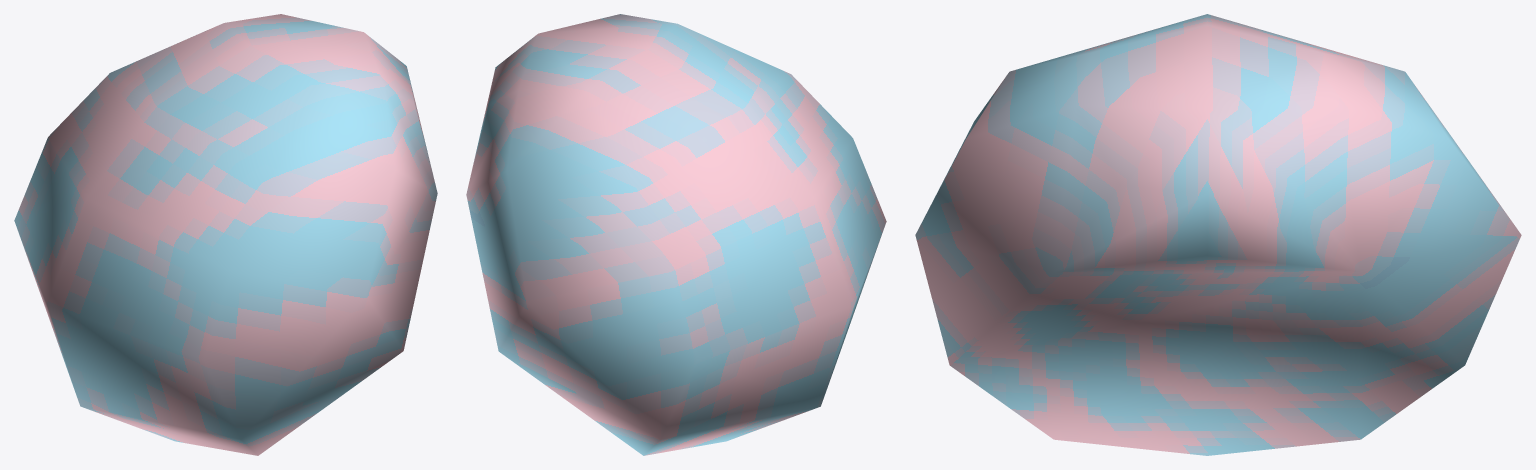
File: Bonnet.fbx
The picture shows the model from 3 angles, left to right: view 1: azimuth 30°, elevation 25°; view 2: azimuth 150°, elevation 25°; view 3: azimuth 270°, elevation 25°; orthographic projection. The views are drawn at different scales.
Visible parts, largest first — view 1: Bonnet; view 2: Bonnet; view 3: Bonnet.
Part boxes in pixels (x1,y1,x2,y2): Bonnet: [14, 14, 437, 455]; Bonnet: [466, 14, 886, 455]; Bonnet: [915, 14, 1521, 455].
Size of the model in its own units: 233 by 232 by 267.
